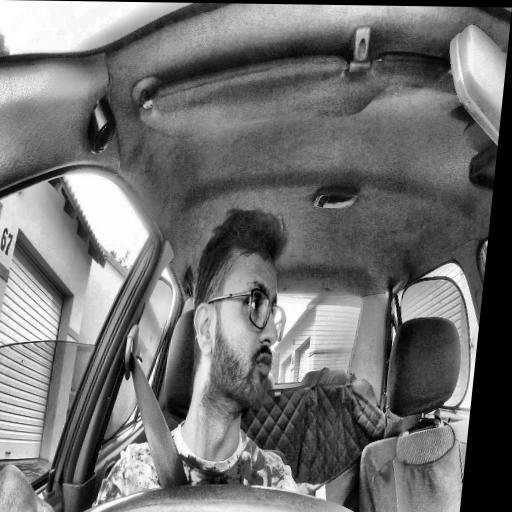awake: (182, 207, 298, 408)
